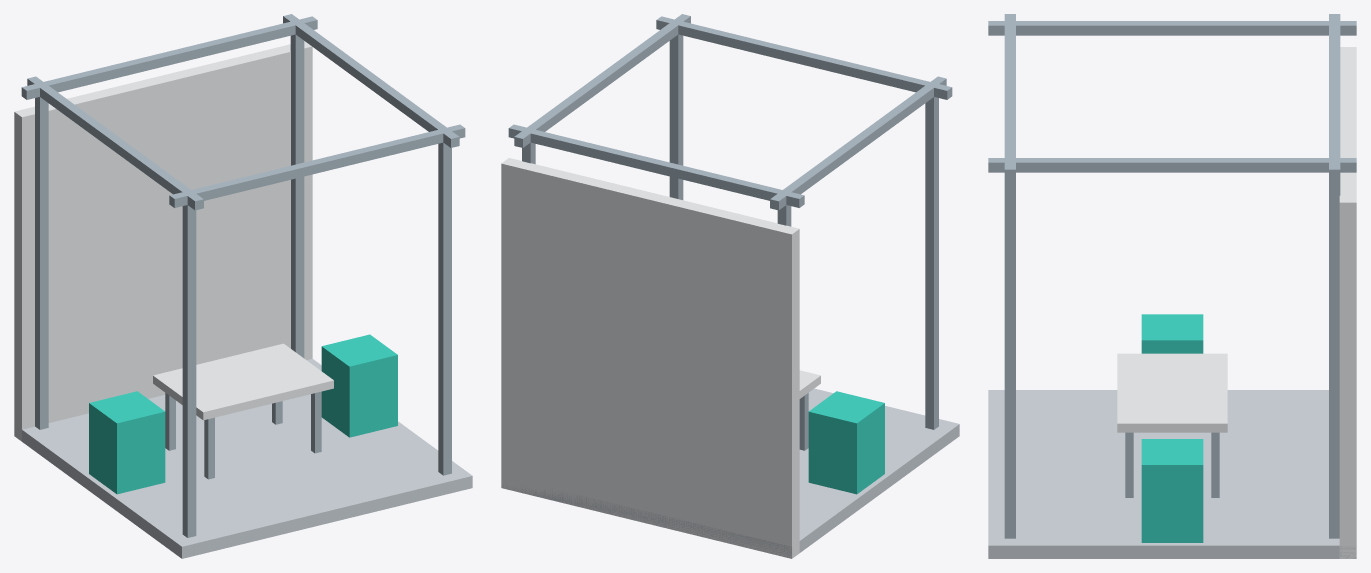
The picture shows the model from 3 angles, left to right: view 1: azimuth 30°, elevation 25°; view 2: azimuth 150°, elevation 25°; view 3: azimuth 270°, elevation 25°; orthographic projection. The views are drawn at different scales.
Visible parts, largest first — view 1: Exhibition Booth Concept; view 2: Exhibition Booth Concept; view 3: Exhibition Booth Concept.
Part boxes in pixels (left/top/right/bottom): Exhibition Booth Concept: left=14, top=14, right=472, bottom=558; Exhibition Booth Concept: left=501, top=14, right=959, bottom=558; Exhibition Booth Concept: left=988, top=14, right=1356, bottom=558.
Bounding box in the file's own units: 3 × 3.49 × 3.
